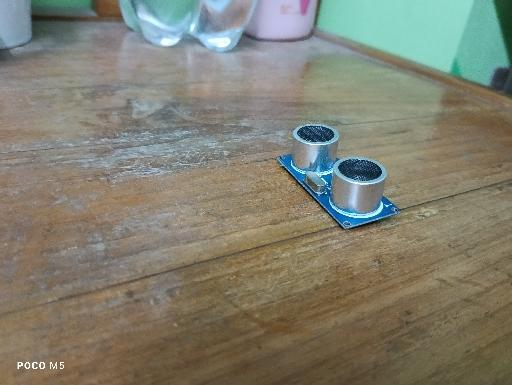sensor: (275, 123, 402, 231)
